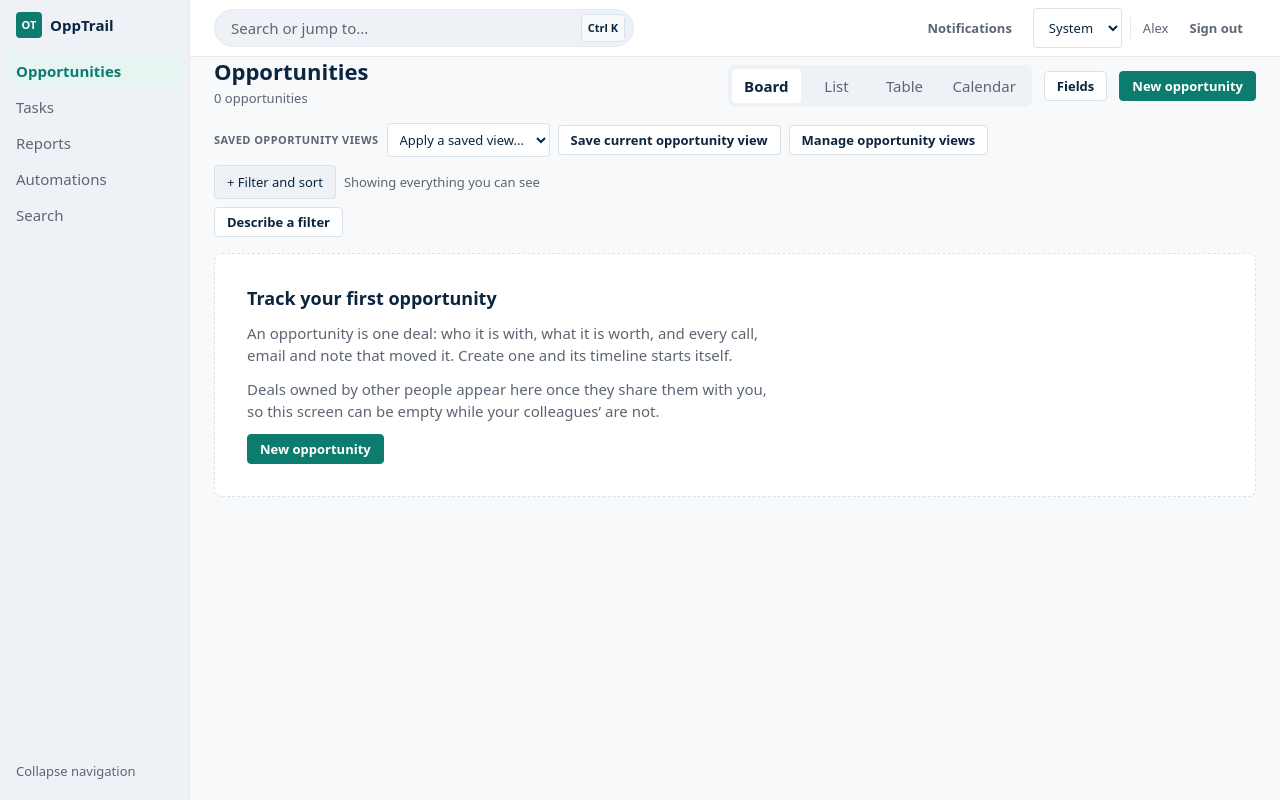
the dashboard › creates an opportunity from the dialog the board opens
Expected: the heading "Opportunities" is shown, [214,57,368,85]
Step 1. Click the button "New opportunity" in the row of "0 opportunities" → (1188, 86), box [1119,71,1256,101]
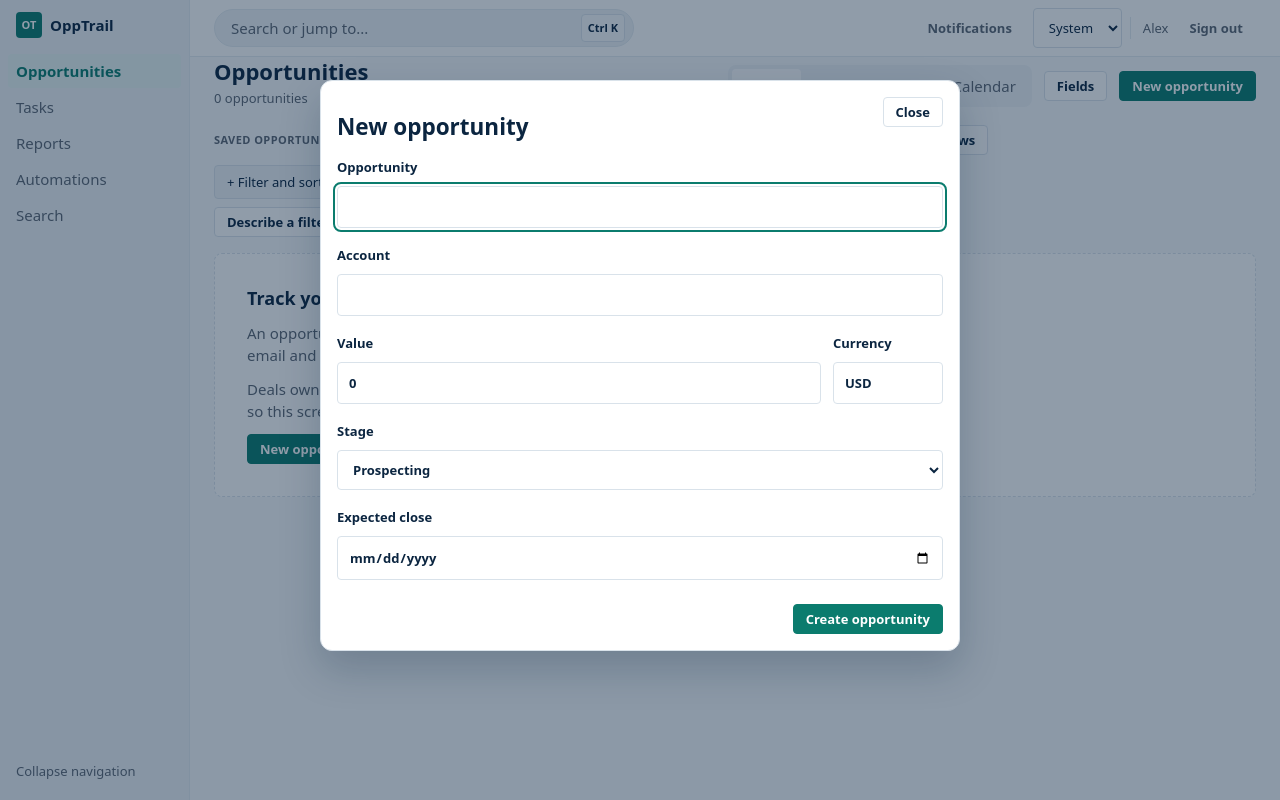
Step 2. Type "Contoso pilot" into the field labelled "Opportunity" → (640, 207), box [337,186,943,228]
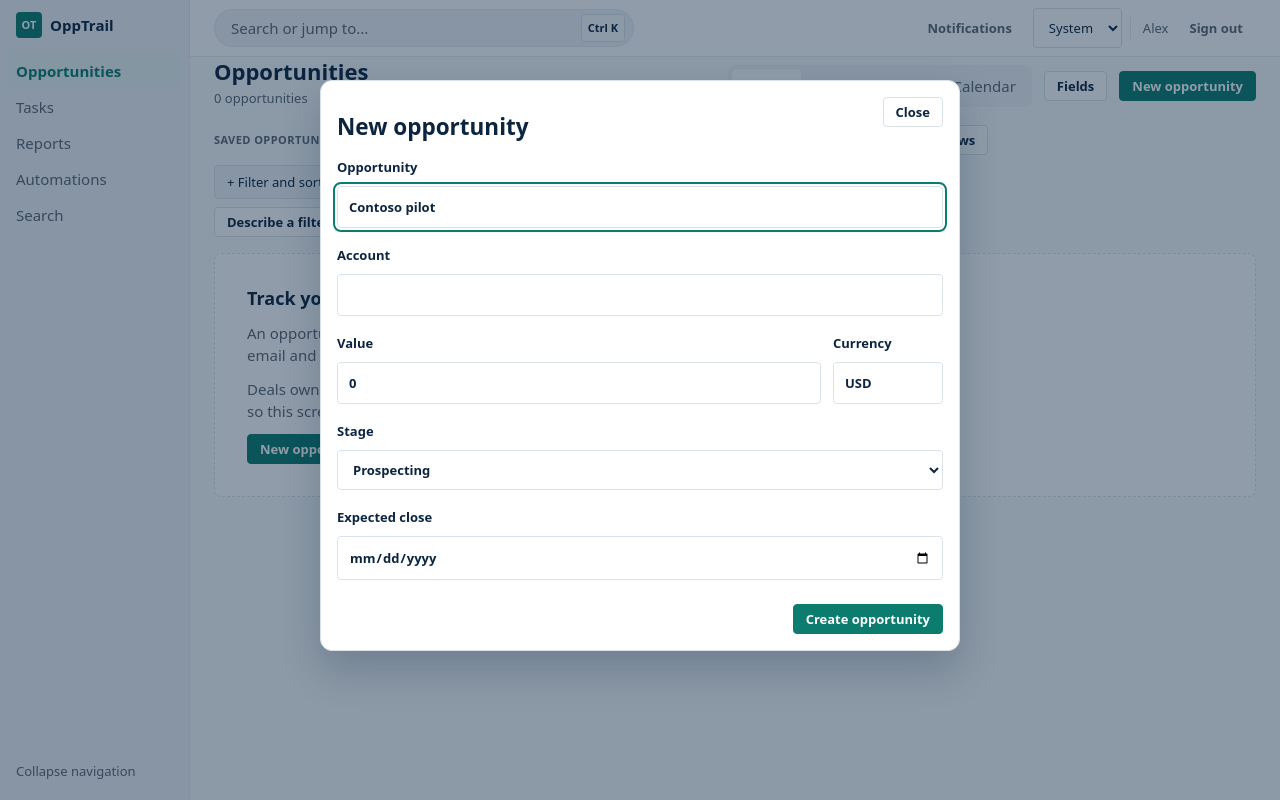
Step 3. Type "Contoso" into the field labelled "Account" → (640, 295), box [337,274,943,316]
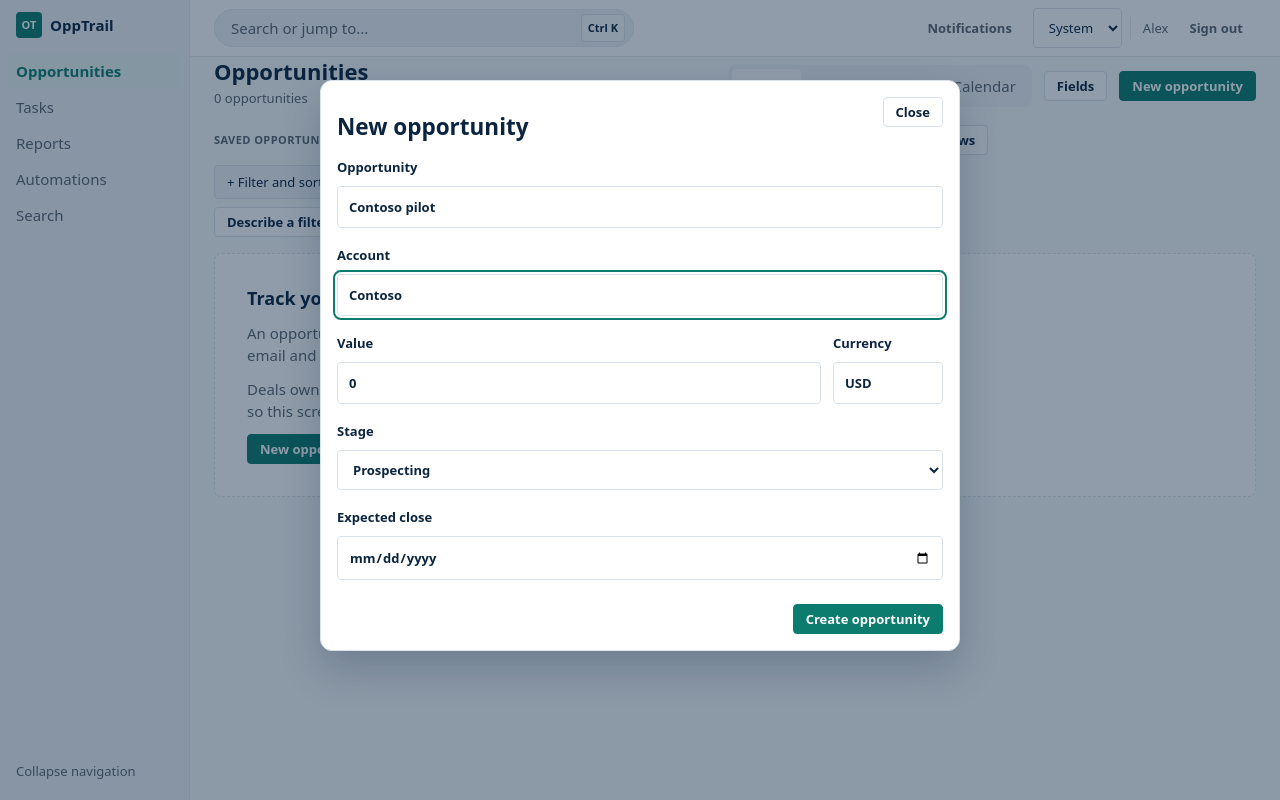
Step 4. Click the button "Create opportunity" → (868, 619), box [793,604,943,634]
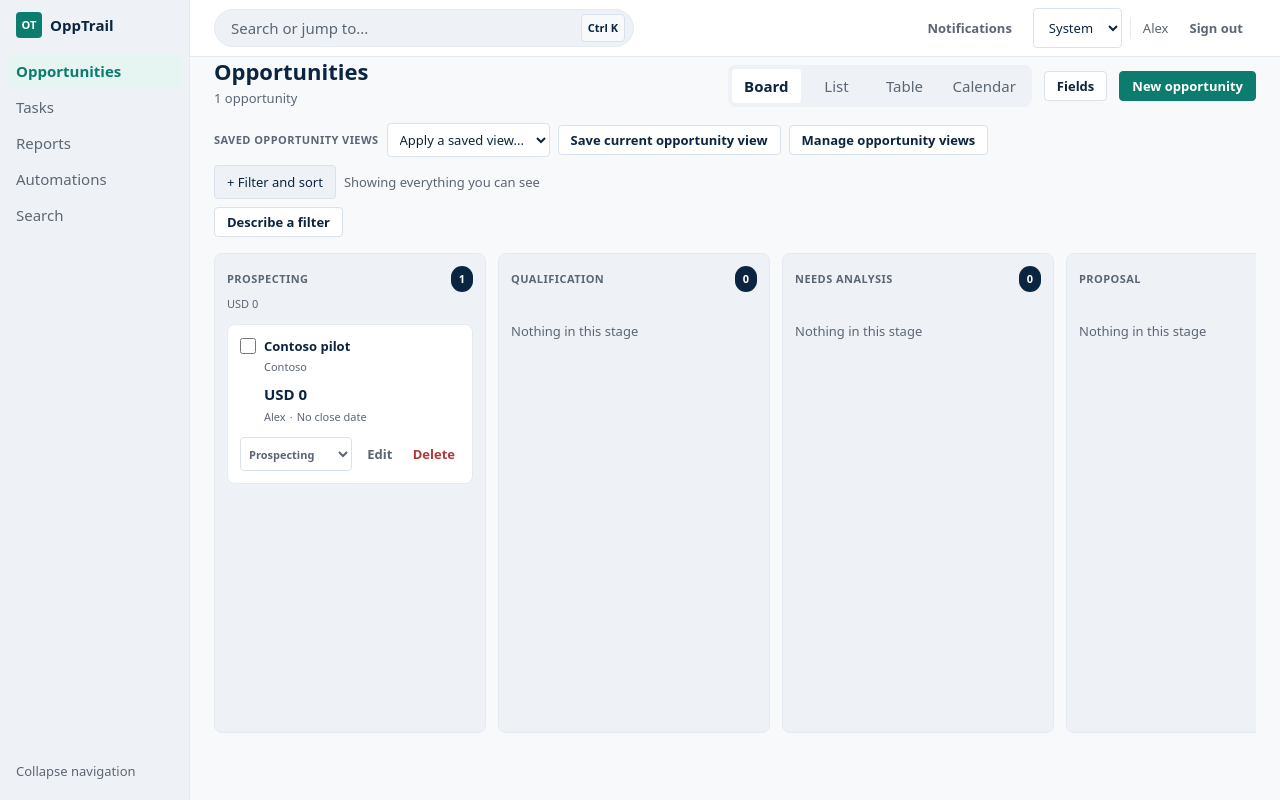
Now the link "Contoso pilot" is shown, box [264,337,350,355]
Now the dialog is gone
